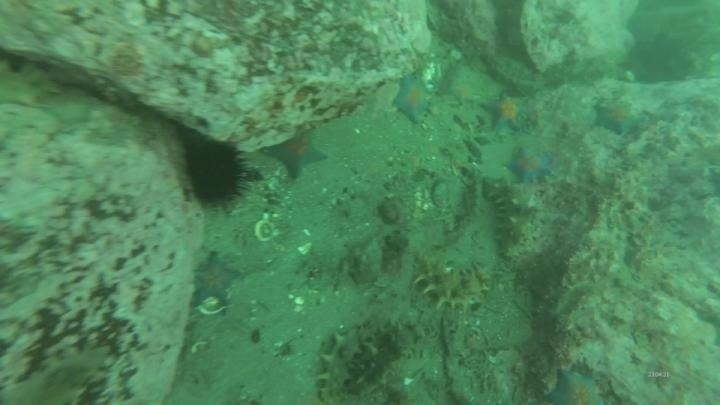echinus: (178, 136, 253, 209), (622, 34, 692, 89)
holothurian: (2, 344, 114, 405), (314, 318, 378, 402), (410, 251, 494, 314), (484, 174, 535, 258), (1, 52, 67, 111)
starfish: (259, 127, 330, 181), (189, 251, 242, 308), (478, 90, 534, 135), (544, 365, 607, 404), (389, 74, 435, 125), (590, 99, 646, 138), (502, 145, 555, 186), (447, 78, 481, 107)
